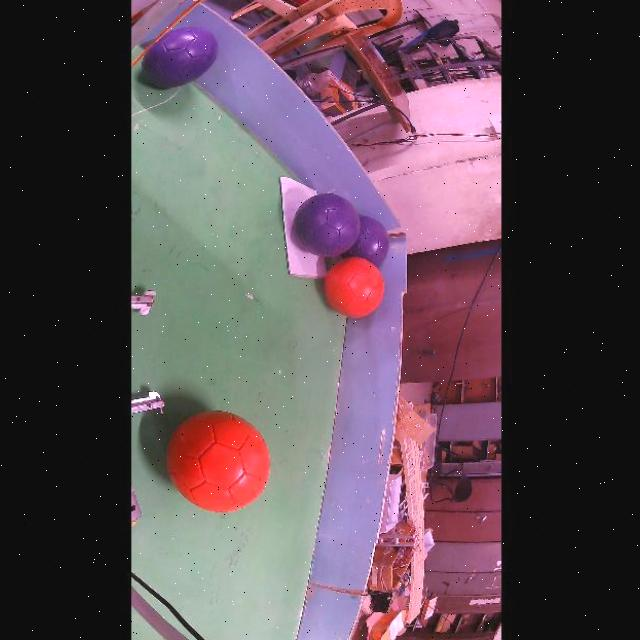P: (142, 28, 218, 88), (293, 193, 360, 258), (342, 217, 389, 265)
R: (167, 411, 270, 512), (324, 256, 384, 317)
